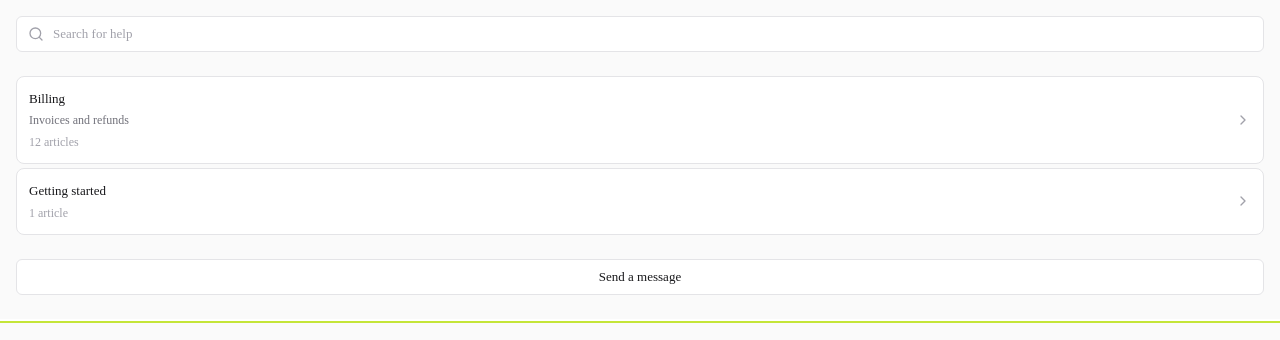
Scenario: Help, searching › shows nothing until submitted, then shows matching articles
This screenshot has width=1280, height=340.
Expected: the text "Billing" is shown, x1=29 y1=91 x2=65 y2=106
Type "refund" into the search field with placeholder "Search for help". click: (640, 34)
box: x1=16 y1=16 x2=1264 y2=52
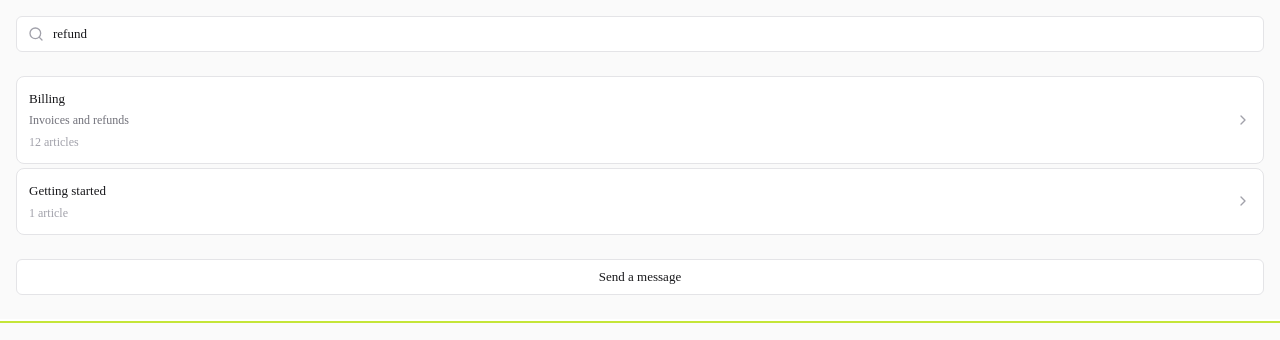
Submit the form, box x1=16 y1=16 x2=1264 y2=52
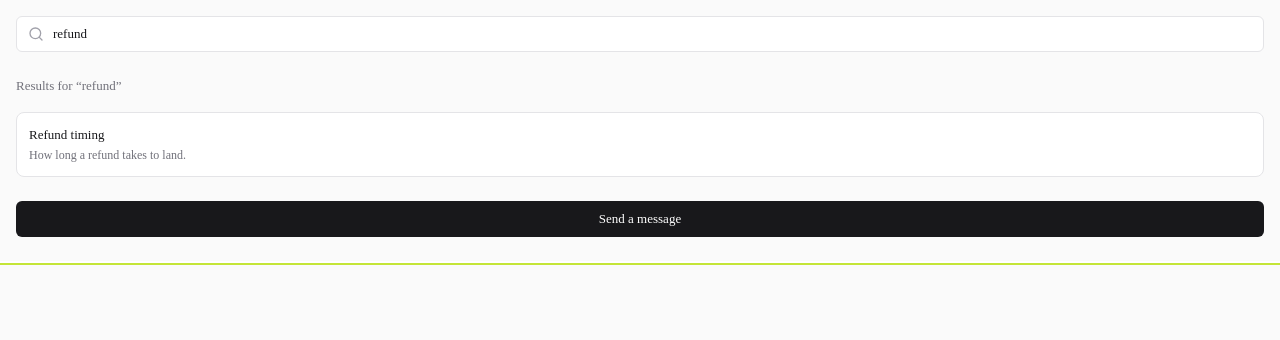
Expected: the text "Refund timing" is shown, x1=29 y1=126 x2=104 y2=142
Expected: the button "Billing" is gone
